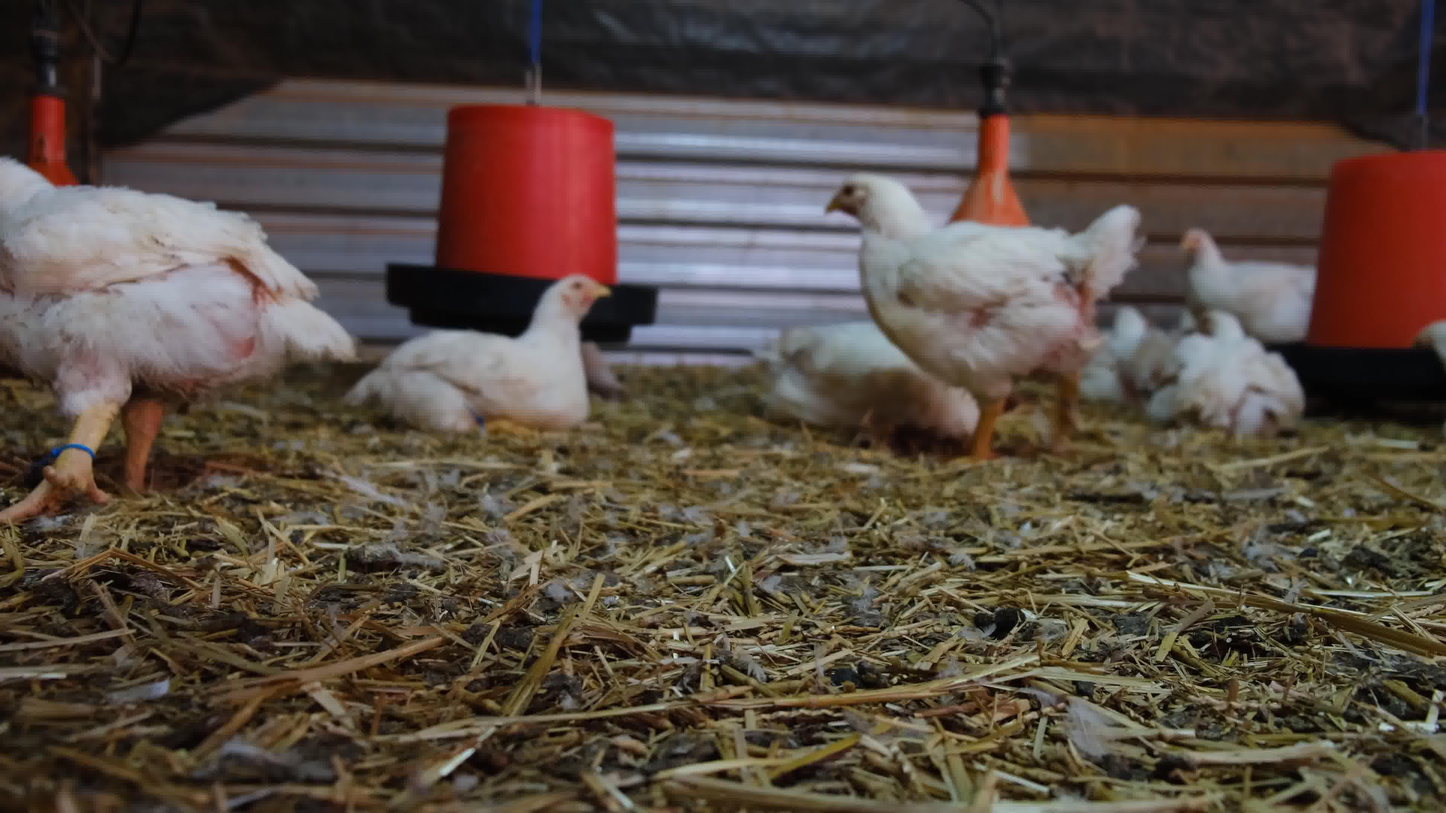AbNormal: (343, 275, 618, 432), (748, 322, 997, 438), (1161, 310, 1318, 433), (1085, 303, 1153, 416)
Normal: (0, 140, 353, 536), (818, 174, 1149, 470), (1171, 226, 1325, 340)
